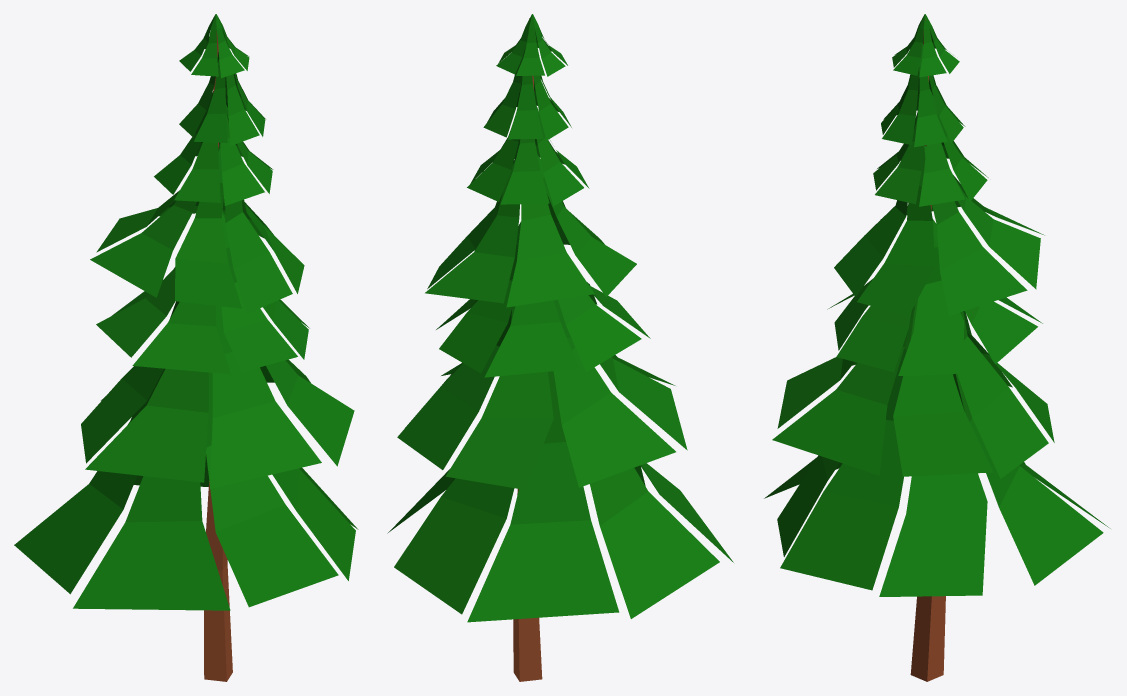
File: tree2.fbx
3 views of the same model, side by side, from view 1: azimuth 30°, elevation 25°; view 2: azimuth 150°, elevation 25°; view 3: azimuth 270°, elevation 25° (orthographic).
Visible parts, largest first — view 1: Cylinder.003, Cylinder.006, Cylinder.004, Cylinder.005, Cylinder.002, Cylinder.001, Cube, Cylinder; view 2: Cylinder.003, Cylinder.006, Cylinder.004, Cylinder.005, Cylinder.002, Cylinder.001, Cylinder, Cube; view 3: Cylinder.003, Cylinder.006, Cylinder.004, Cylinder.005, Cylinder.002, Cylinder.001, Cube, Cylinder.
Boxes of the visible parts, x1,y1,x2,y2 form: Cylinder.003: [14, 368, 358, 610]; Cylinder.006: [81, 301, 354, 488]; Cylinder.004: [90, 144, 304, 313]; Cylinder.005: [96, 211, 309, 374]; Cylinder.002: [154, 91, 273, 205]; Cylinder.001: [179, 38, 265, 145]; Cube: [204, 31, 232, 681]; Cylinder: [179, 14, 249, 78]; Cylinder.003: [387, 337, 733, 622]; Cylinder.006: [397, 299, 687, 489]; Cylinder.004: [425, 155, 636, 307]; Cylinder.005: [436, 222, 650, 377]; Cylinder.002: [467, 106, 589, 205]; Cylinder.001: [483, 35, 571, 140]; Cylinder: [496, 14, 567, 76]; Cube: [513, 18, 542, 681]; Cylinder.003: [764, 304, 1110, 596]; Cylinder.006: [772, 299, 1054, 478]; Cylinder.004: [834, 146, 1044, 315]; Cylinder.005: [827, 219, 1042, 375]; Cylinder.002: [873, 89, 988, 206]; Cylinder.001: [881, 44, 965, 147]; Cube: [910, 19, 945, 681]; Cylinder: [892, 14, 959, 77].
Bounding box in the file's own units: 1285 × 2781 × 1336.
